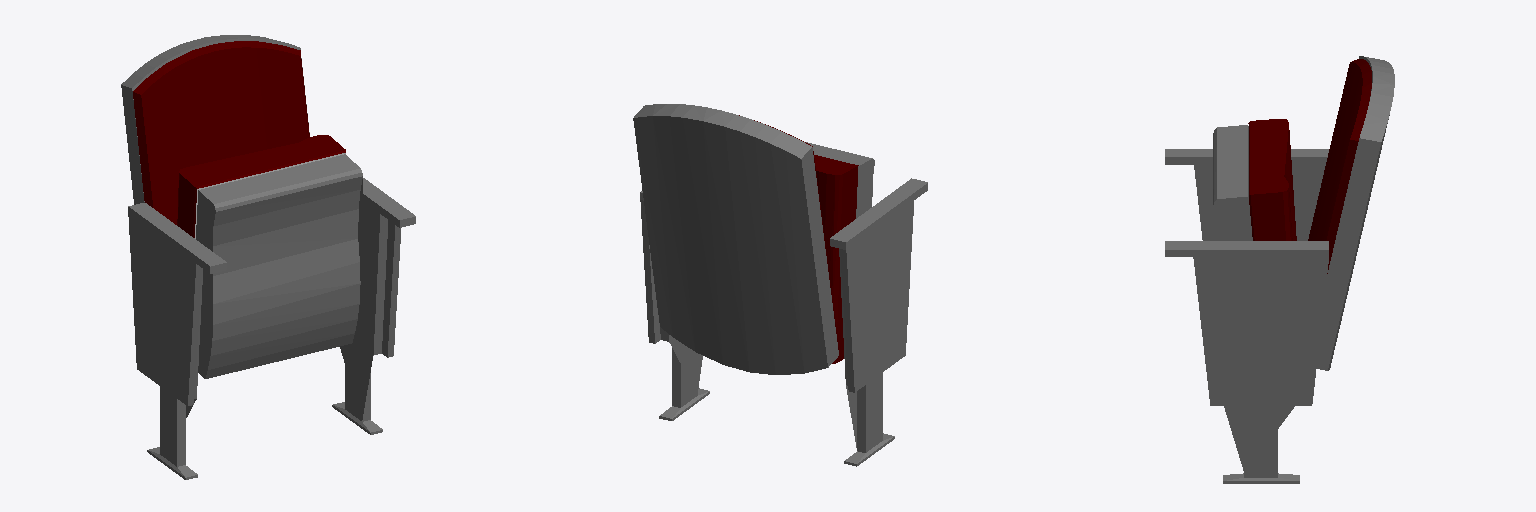
3 views of the same model, side by side, from view 1: azimuth 30°, elevation 25°; view 2: azimuth 150°, elevation 25°; view 3: azimuth 270°, elevation 25° (orthographic).
Visible parts, largest first — view 1: butaca; view 2: butaca; view 3: butaca.
Boxes of the visible parts, x1,y1,x2,y2 form: butaca: [121, 35, 415, 479]; butaca: [633, 104, 927, 466]; butaca: [1165, 56, 1394, 483].
Size of the model in its own units: 20.88 by 34.77 by 20.18.